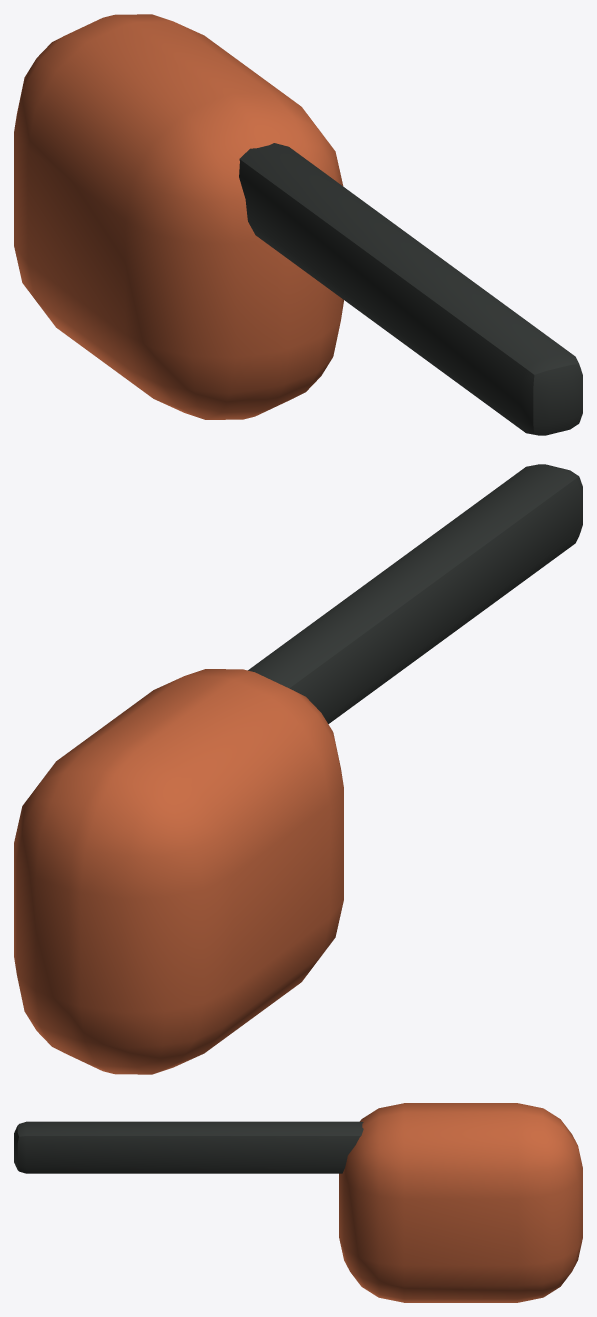
Rendered from submersible_pump_float_switch.glb.
3 views of the same model, one above another, from view 1: azimuth 30°, elevation 25°; view 2: azimuth 150°, elevation 25°; view 3: azimuth 270°, elevation 25° (orthographic). The views are drawn at different scales.
Visible parts, largest first — view 1: submersible_pump_float_switch; view 2: submersible_pump_float_switch; view 3: submersible_pump_float_switch.
Boxes of the visible parts, <box> form: submersible_pump_float_switch: <box>14,14,582,435</box>; submersible_pump_float_switch: <box>14,464,582,1074</box>; submersible_pump_float_switch: <box>14,1103,582,1302</box>.
Size of the model in its own units: 0.034 by 0.05 by 0.14.
